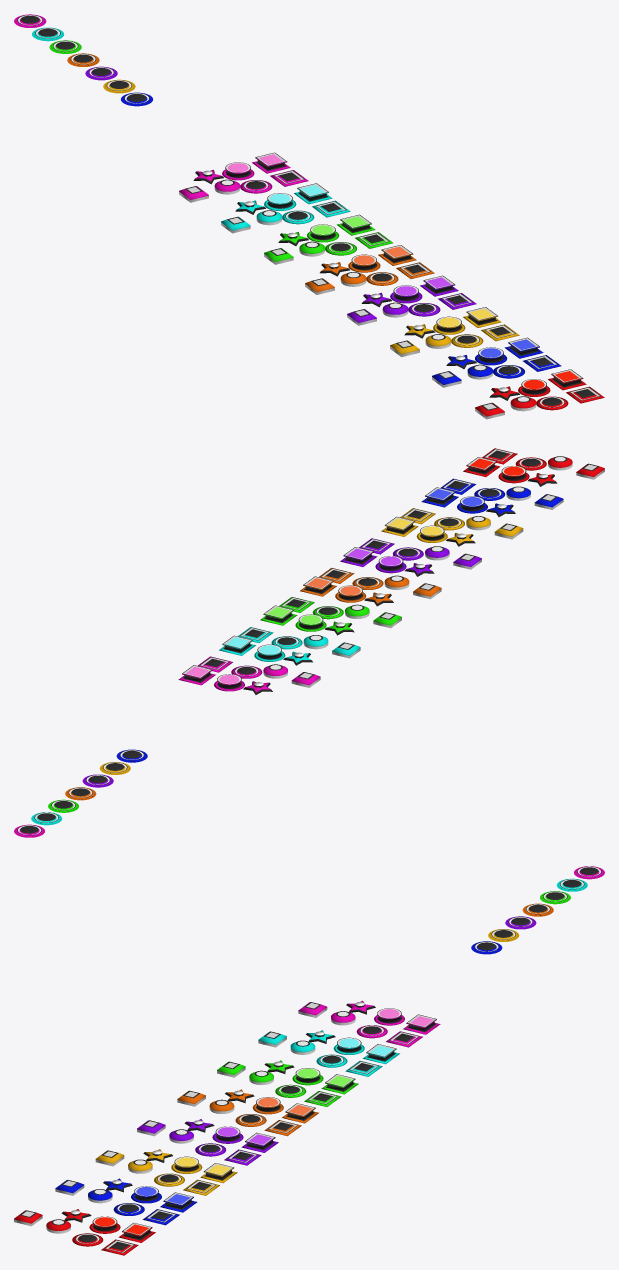
File: botoes grunge.glb
The picture shows the model from 3 angles, top to bottom: view 1: azimuth 30°, elevation 25°; view 2: azimuth 150°, elevation 25°; view 3: azimuth 330°, elevation 25°; orthographic projection. The views are drawn at different scales.
Size of the model in its own units: 8.3 by 0.7977 by 66.4.
